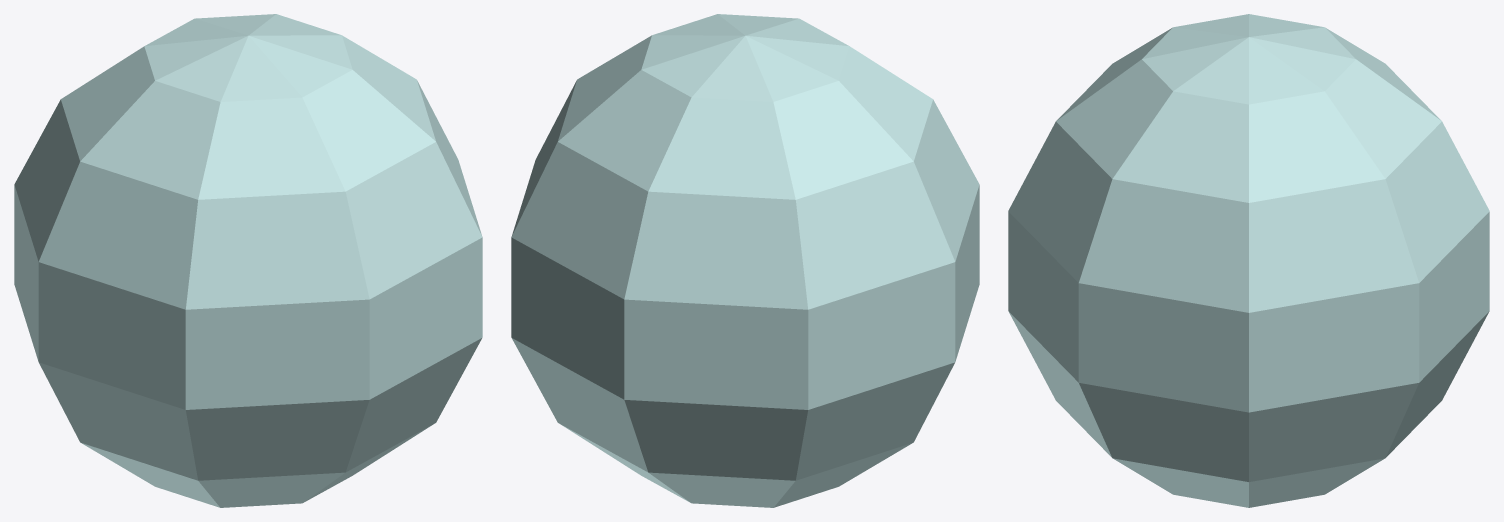
The model's file is FoodBall_Shell.fbx.
3 renders of one model, left to right at view 1: azimuth 30°, elevation 25°; view 2: azimuth 150°, elevation 25°; view 3: azimuth 270°, elevation 25°, orthographic.
Parts seen in each view (by area): view 1: pSphere1; view 2: pSphere1; view 3: pSphere1.
Part boxes in pixels (<box>): pSphere1: <box>14,14,482,507</box>; pSphere1: <box>511,14,979,507</box>; pSphere1: <box>1008,14,1489,507</box>.
Size of the model in its own units: 3.33 by 3.42 by 3.33.
